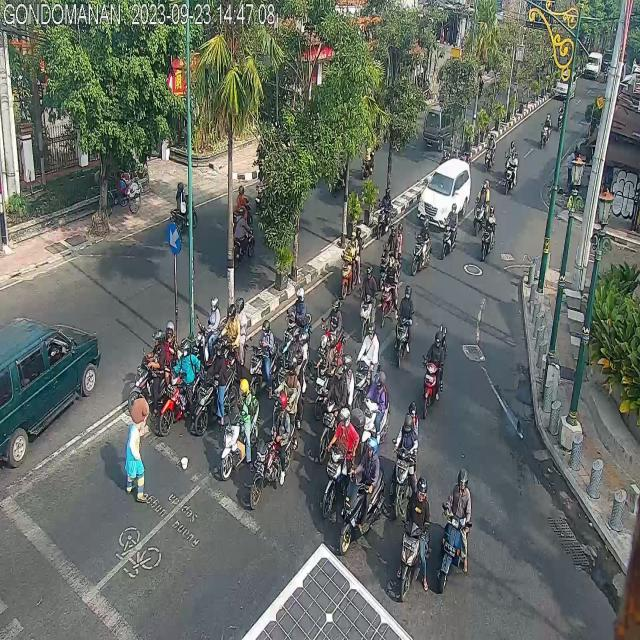car: (0, 303, 101, 467), (415, 153, 474, 230)
motorcycle: (340, 433, 385, 545), (220, 371, 262, 481), (440, 464, 476, 588), (400, 471, 432, 609), (250, 401, 292, 503), (326, 406, 359, 522), (135, 324, 178, 403), (164, 341, 196, 428), (194, 332, 224, 424), (426, 324, 452, 424), (396, 402, 418, 511), (391, 288, 416, 373), (354, 321, 380, 388), (338, 228, 360, 295), (412, 212, 429, 284), (479, 205, 499, 264), (363, 262, 378, 339), (379, 250, 395, 321), (441, 197, 457, 260)
